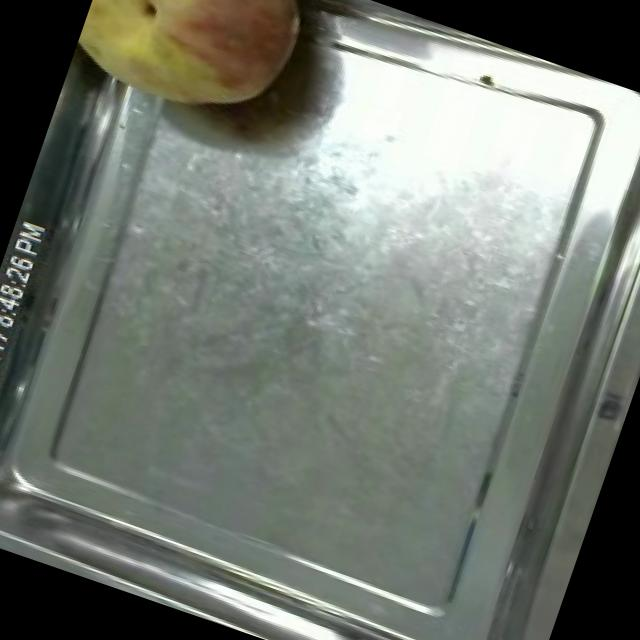Fruit: (65, 0, 326, 148)
